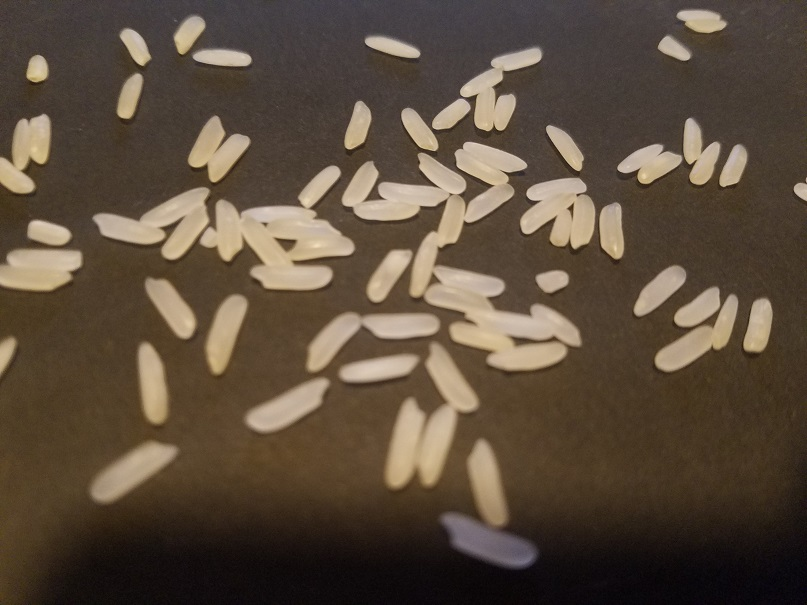egg: (87, 438, 181, 505), (439, 509, 541, 568), (243, 374, 329, 434), (462, 436, 513, 529), (383, 396, 431, 491), (420, 339, 479, 415), (416, 402, 461, 489), (202, 292, 248, 377), (303, 311, 364, 372), (143, 276, 198, 342), (239, 212, 297, 270), (139, 185, 210, 230), (653, 324, 716, 373), (465, 308, 553, 343), (629, 263, 688, 315), (135, 339, 169, 426), (158, 204, 209, 262), (486, 339, 568, 375), (364, 246, 414, 303), (422, 281, 498, 318), (337, 353, 420, 386), (431, 262, 505, 298), (518, 191, 577, 235), (249, 263, 333, 293), (449, 319, 517, 355), (414, 150, 468, 195), (531, 301, 582, 348), (542, 121, 588, 173), (362, 311, 439, 342), (93, 213, 166, 244), (453, 148, 514, 185), (460, 184, 516, 224), (673, 285, 722, 330), (464, 139, 528, 173), (187, 115, 225, 172), (208, 131, 251, 181), (214, 196, 245, 265), (409, 232, 440, 298), (741, 295, 774, 355), (376, 180, 451, 206), (296, 163, 340, 207), (1, 265, 71, 292), (709, 291, 741, 350), (1, 246, 83, 269), (342, 159, 380, 208), (401, 105, 441, 151), (597, 200, 626, 263), (523, 174, 589, 201), (688, 137, 722, 187), (615, 141, 666, 174), (433, 195, 464, 248), (637, 149, 682, 185), (265, 220, 348, 239), (363, 33, 423, 59), (287, 237, 357, 259), (344, 97, 372, 152), (489, 44, 546, 71), (119, 25, 153, 70), (569, 193, 595, 250), (170, 15, 207, 55), (116, 70, 144, 122), (25, 216, 73, 246), (354, 201, 419, 222), (720, 142, 749, 189), (461, 64, 506, 94), (430, 97, 469, 131), (1, 159, 37, 194), (30, 111, 53, 165), (190, 48, 250, 68), (493, 90, 520, 134), (682, 115, 704, 167), (239, 207, 320, 221), (656, 32, 693, 62), (534, 265, 572, 294), (11, 118, 31, 170), (475, 84, 497, 130), (23, 52, 53, 84), (551, 209, 573, 250), (675, 6, 724, 21), (687, 15, 726, 33), (1, 334, 17, 375), (200, 226, 220, 249), (793, 180, 807, 198)
